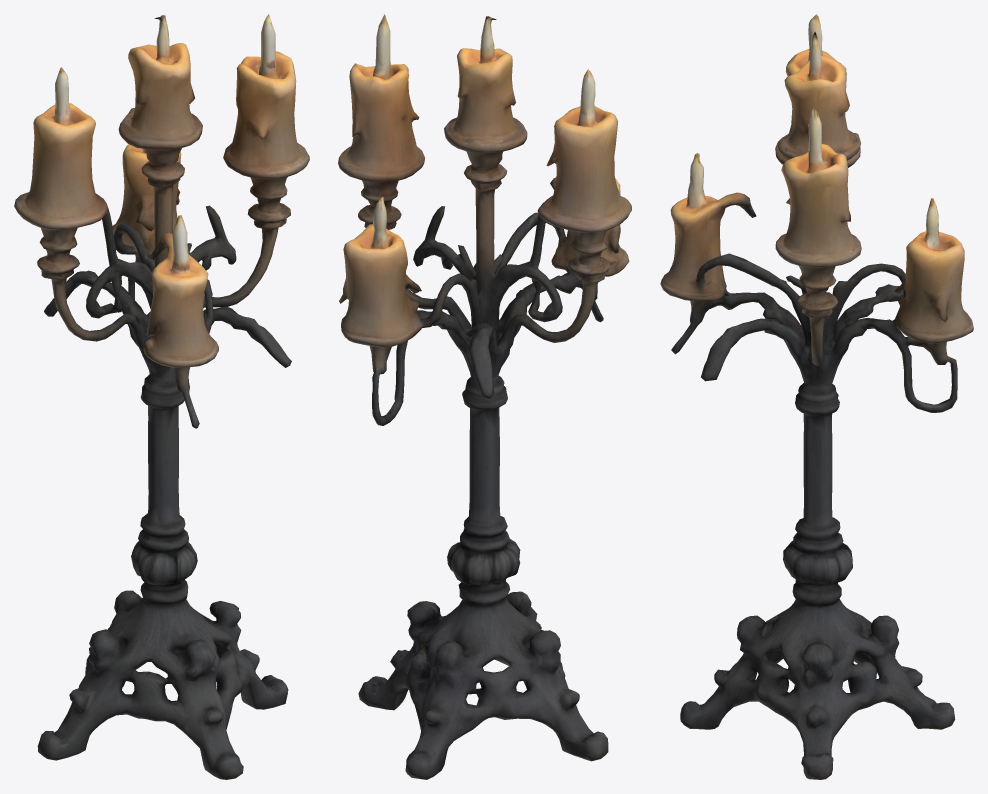
Rendered from candelabrum_tall.glb.
3 views of the same model, side by side, from view 1: azimuth 30°, elevation 25°; view 2: azimuth 150°, elevation 25°; view 3: azimuth 270°, elevation 25° (orthographic). The views are drawn at different scales.
Bounding box in the file's own units: 0.8139 × 2 × 0.8236.
1 material, 1 textured.
